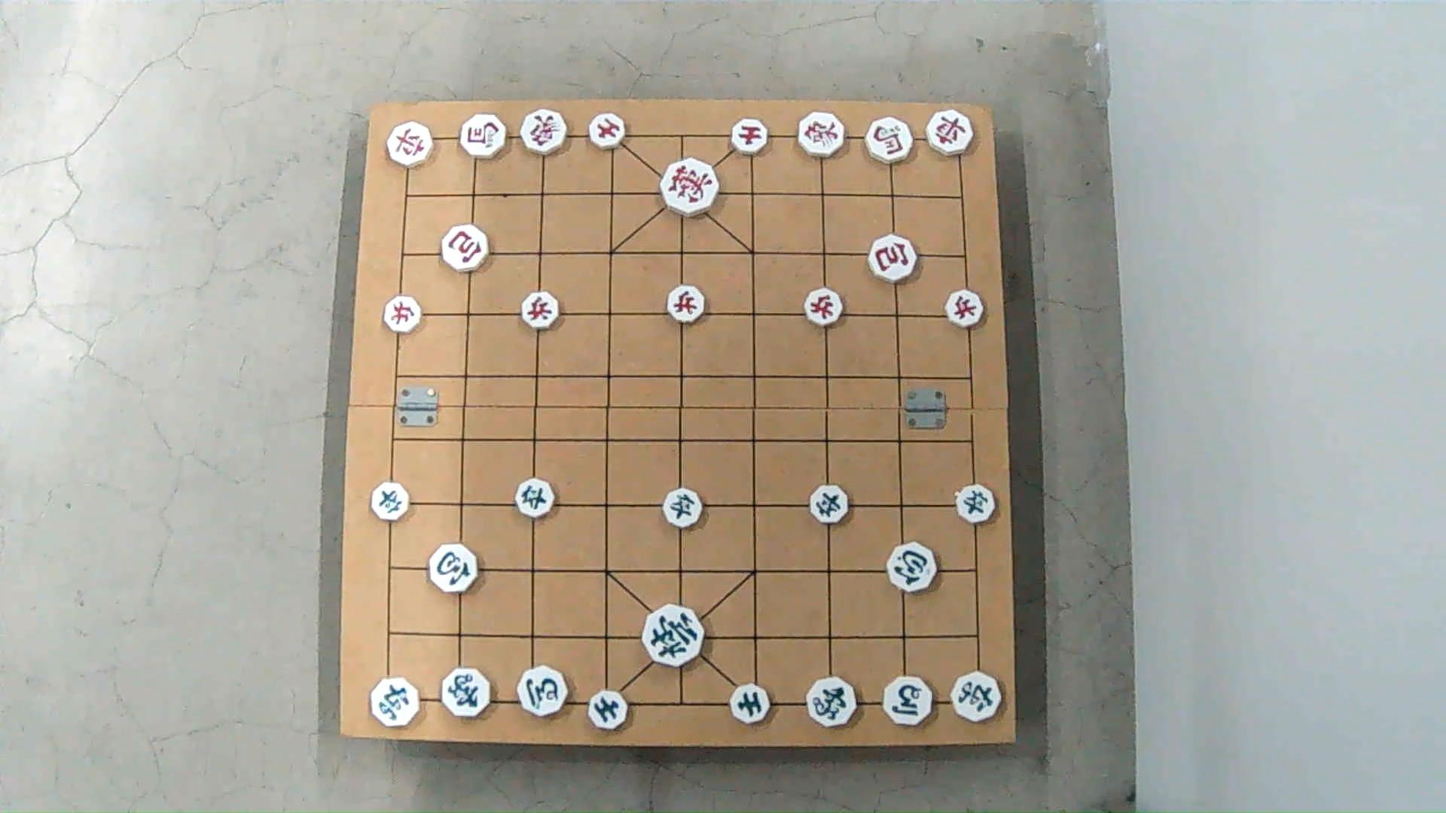cha_green: (950, 671, 1003, 723), (369, 676, 419, 725)
cha_red: (386, 123, 438, 165), (927, 111, 975, 153)
jol_green: (665, 489, 706, 526), (953, 486, 994, 523), (515, 481, 555, 518), (372, 484, 412, 520), (810, 484, 850, 520)
jol_red: (804, 290, 843, 326), (664, 288, 703, 324), (521, 294, 560, 330), (944, 292, 984, 327), (385, 298, 424, 333)
ma_green: (517, 662, 570, 723), (882, 674, 934, 726)
ma_red: (868, 117, 916, 162), (459, 115, 506, 157)
po_green: (886, 544, 938, 590), (428, 547, 477, 592)
po_red: (868, 237, 918, 282), (444, 226, 491, 269)
sa_green: (588, 689, 628, 732), (729, 684, 770, 721)
sa_red: (587, 114, 627, 148), (731, 120, 769, 152)
sang_green: (804, 677, 859, 730), (442, 668, 491, 717)
sang_red: (517, 108, 570, 157), (798, 115, 847, 158)
wang_green: (645, 607, 706, 665)
wang_red: (658, 160, 718, 214)
